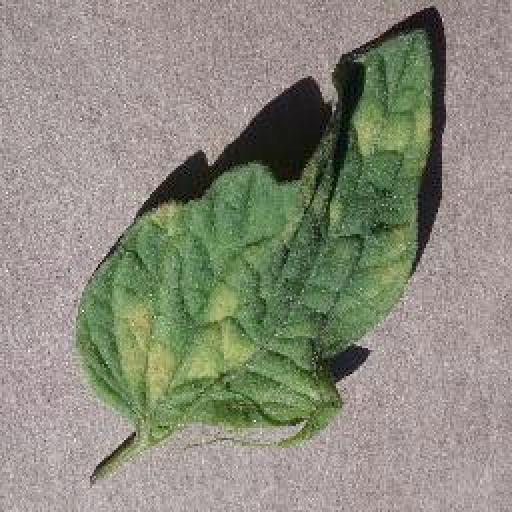disease_tomato: (80, 26, 432, 424)
